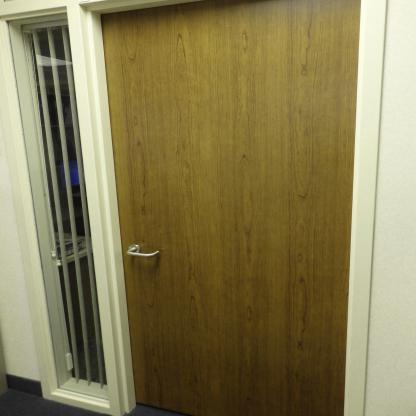door: (123, 18, 343, 415)
lever: (128, 238, 160, 268)
